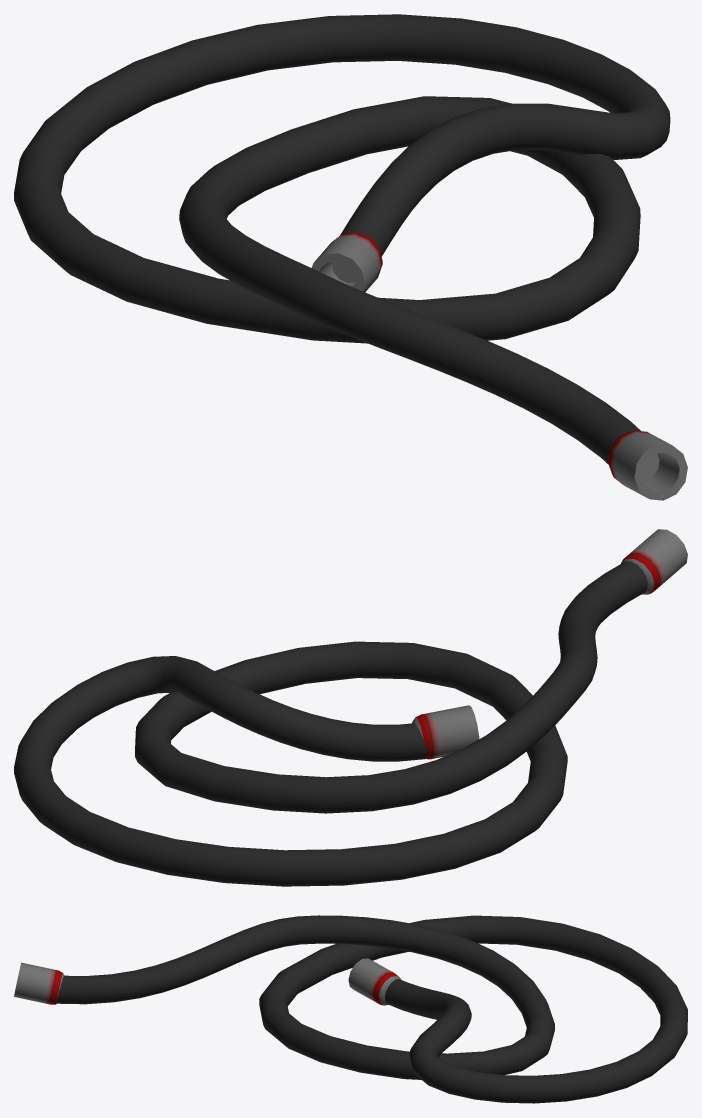
The model's file is cable-1.glb.
3 renders of one model, top to bottom at view 1: azimuth 30°, elevation 25°; view 2: azimuth 150°, elevation 25°; view 3: azimuth 270°, elevation 25°, orthographic. The views are drawn at different scales.
Parts seen in each view (by area): view 1: Prop_Cable_1; view 2: Prop_Cable_1; view 3: Prop_Cable_1.
Boxes of the visible parts, x1=… form: Prop_Cable_1: x1=14, y1=14, x2=687, y2=500; Prop_Cable_1: x1=14, y1=529, x2=687, y2=886; Prop_Cable_1: x1=14, y1=915, x2=687, y2=1103.
Bounding box in the file's own units: 1.02 × 0.1482 × 1.65.
Materials: 2 (2 with a texture image).
